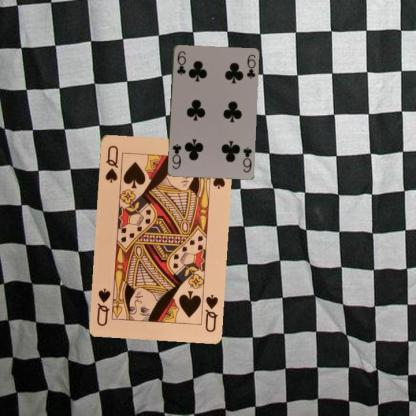6c: (174, 48, 187, 76), (240, 144, 252, 173)
Qs: (102, 142, 119, 184), (202, 292, 219, 333)
